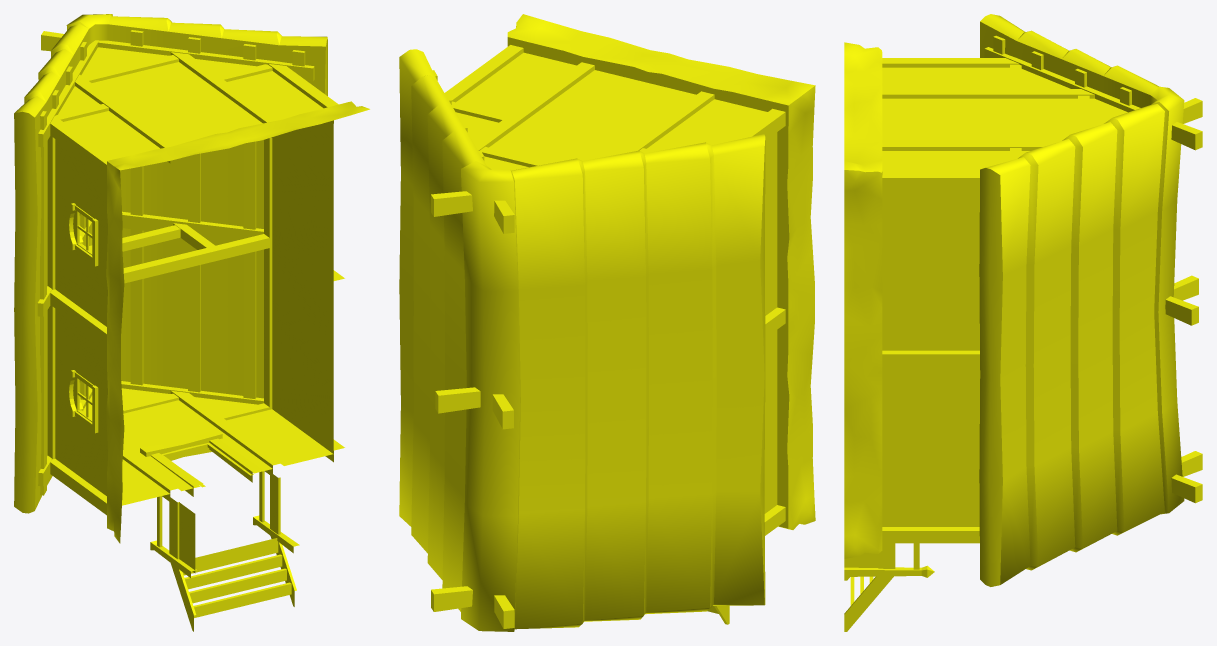
File: wooden_house.glb
3 views of the same model, side by side, from view 1: azimuth 30°, elevation 25°; view 2: azimuth 150°, elevation 25°; view 3: azimuth 270°, elevation 25° (orthographic). The views are drawn at different scales.
Visible parts, largest first — view 1: WoodenHouse_1_LOD0; view 2: WoodenHouse_1_LOD0; view 3: WoodenHouse_1_LOD0.
Part boxes in pixels (box(x1,y1,x2,y2)): WoodenHouse_1_LOD0: box(14, 14, 369, 631); WoodenHouse_1_LOD0: box(399, 14, 815, 631); WoodenHouse_1_LOD0: box(844, 14, 1202, 631).
Size of what is drawn, in the model's own units: 8.84 by 13.31 by 8.41.
Materials: 1 (1 with a texture image).
